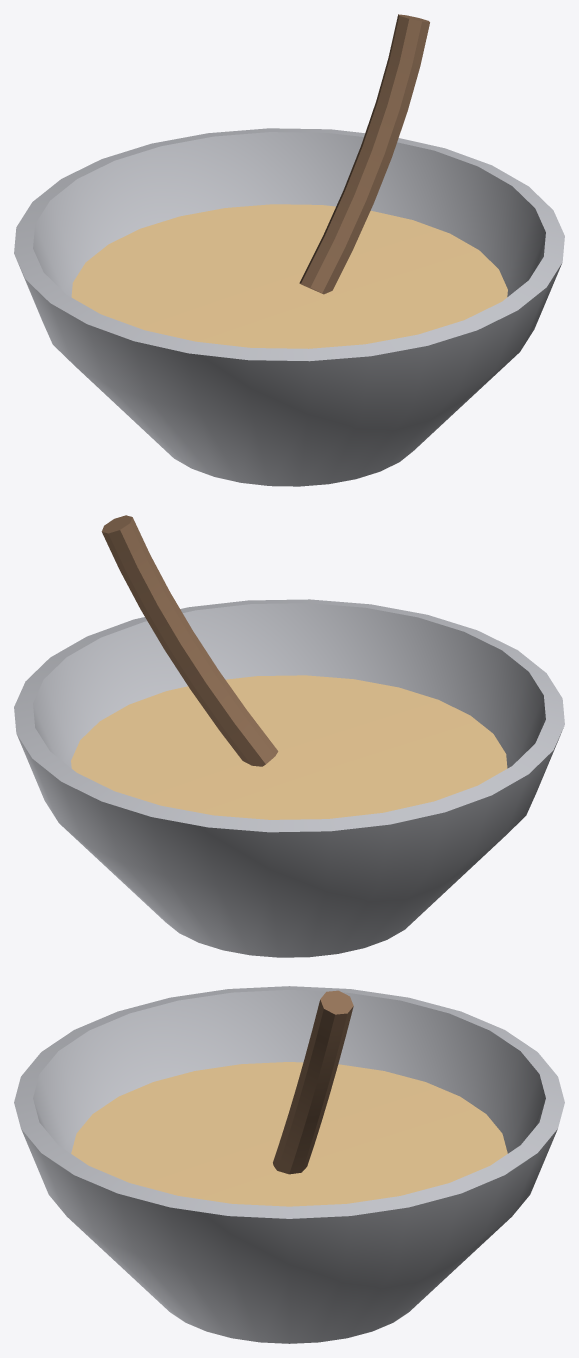
Rendered from Bakery_MixingBowl.fbx.
3 renders of one model, top to bottom at view 1: azimuth 30°, elevation 25°; view 2: azimuth 150°, elevation 25°; view 3: azimuth 270°, elevation 25°, orthographic.
Visible parts, largest first — view 1: Bakery_MixingBowl; view 2: Bakery_MixingBowl; view 3: Bakery_MixingBowl.
Boxes of the visible parts, x1=… form: Bakery_MixingBowl: x1=14, y1=14, x2=564, y2=486; Bakery_MixingBowl: x1=14, y1=515, x2=564, y2=957; Bakery_MixingBowl: x1=14, y1=986, x2=564, y2=1343.
Size of the model in its own units: 5.8 by 4.27 by 5.8.
